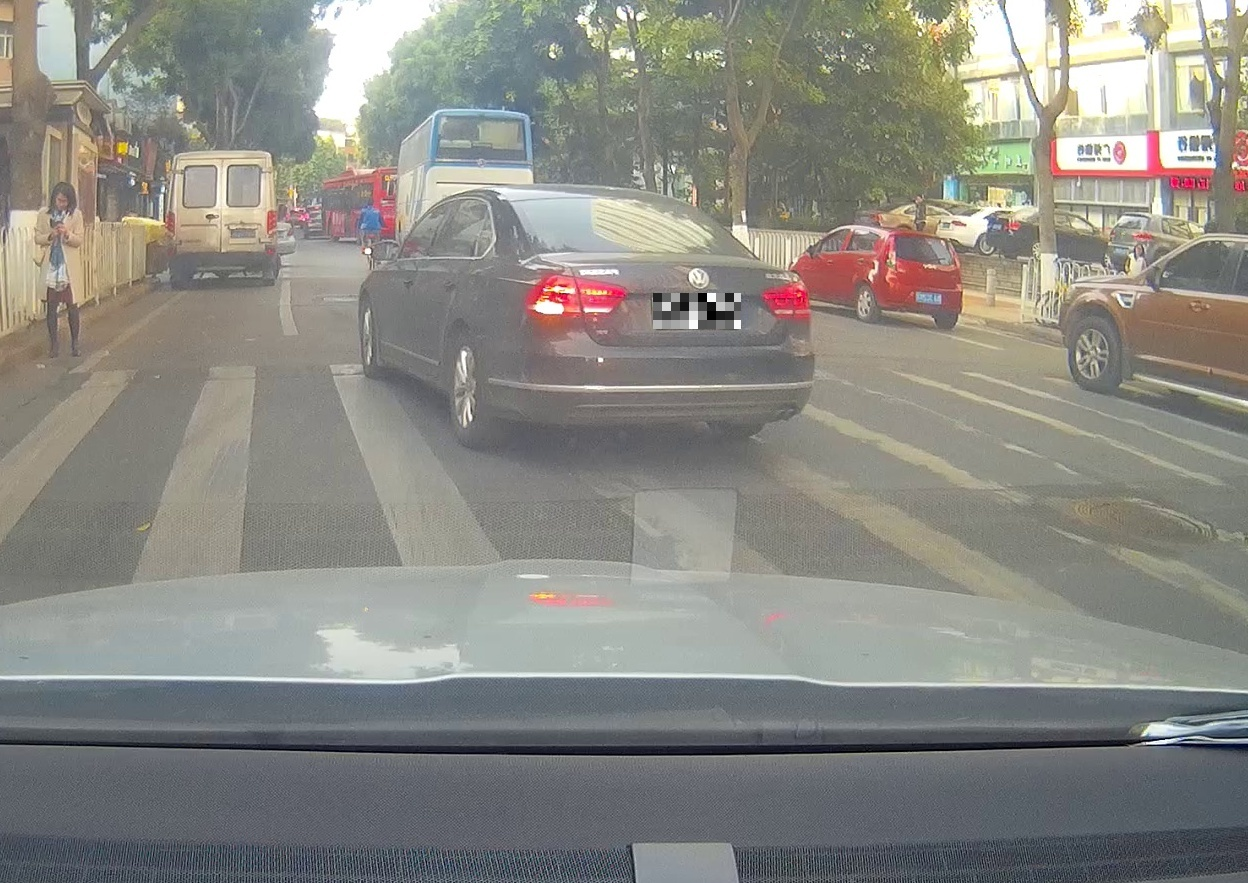L_light: (524, 274, 628, 319), (164, 211, 175, 240), (884, 250, 897, 267)
R_light: (761, 280, 811, 320), (267, 211, 277, 237), (952, 257, 962, 270)
T_light: (674, 247, 713, 255), (214, 157, 230, 162), (922, 238, 938, 241)
day-left: (523, 185, 812, 441)
day-no: (163, 150, 277, 290), (878, 228, 964, 331)
plate_1: (653, 293, 741, 329)
